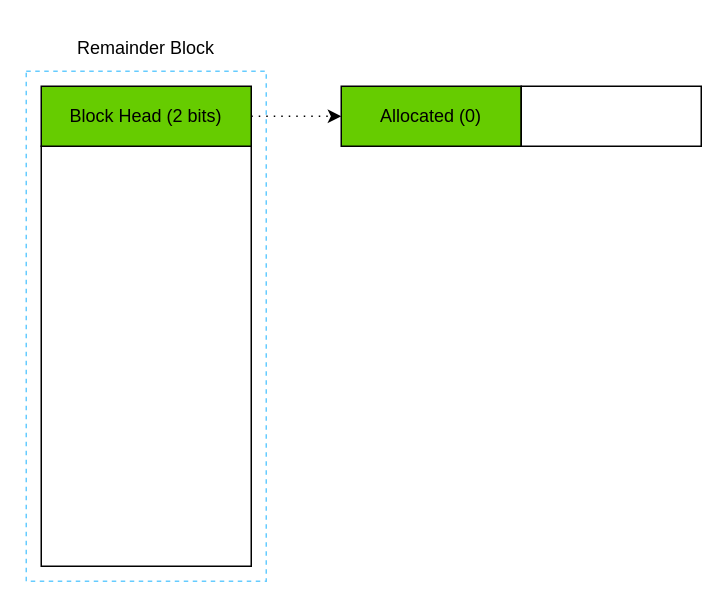
Image size: 728x608. Some labels were removed from this diagram. Here are the shapes that lost their labels. From the top down, the box of each, then its label:
(520, 85, 701, 146): Pre Allocated (0/1)
(40, 145, 251, 566): Block Payload
